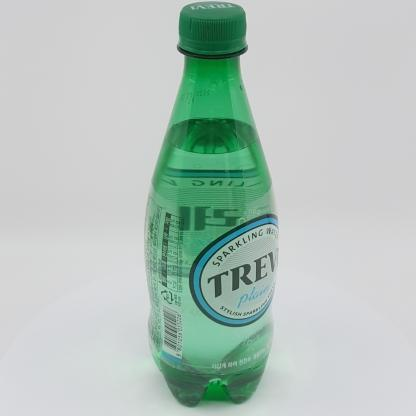---------PET-500ML: (143, 1, 279, 406)
